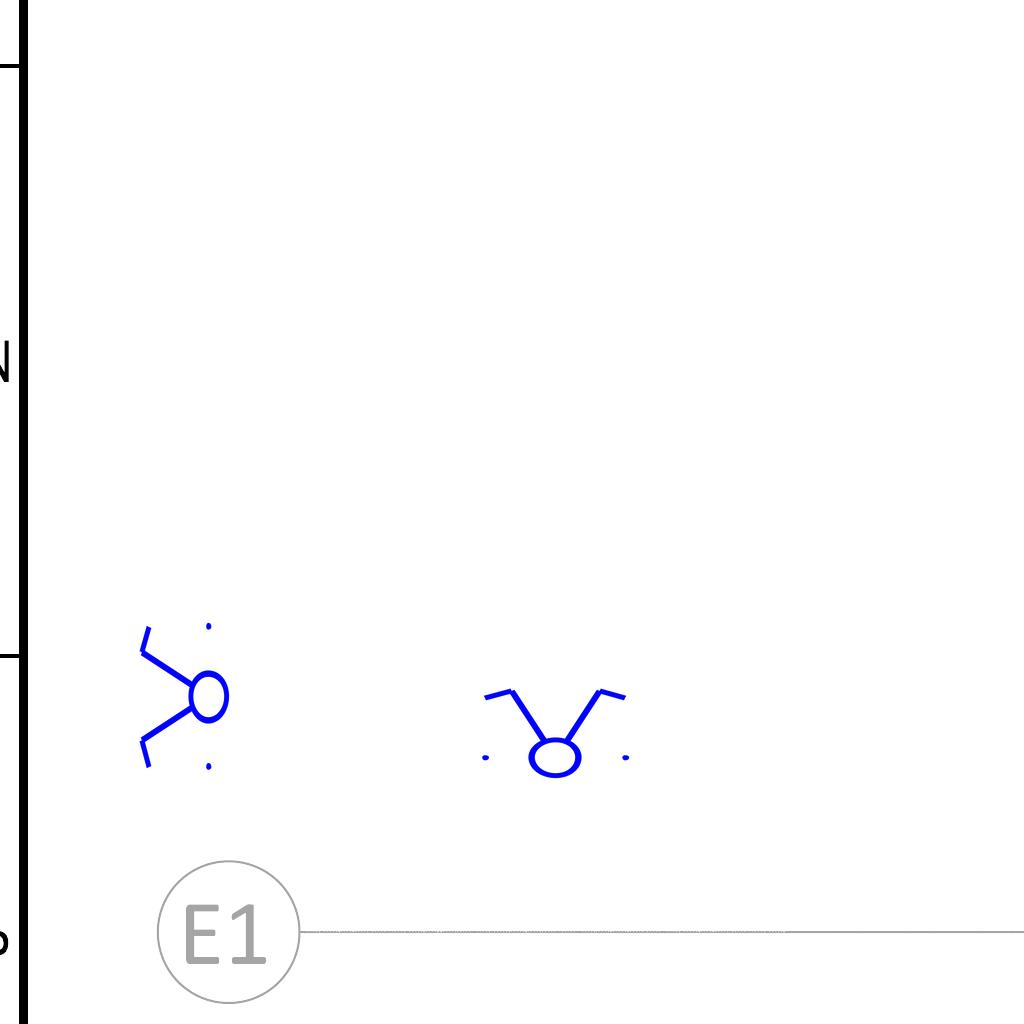Serienschalter: (135, 614, 231, 782), (470, 684, 638, 780)
